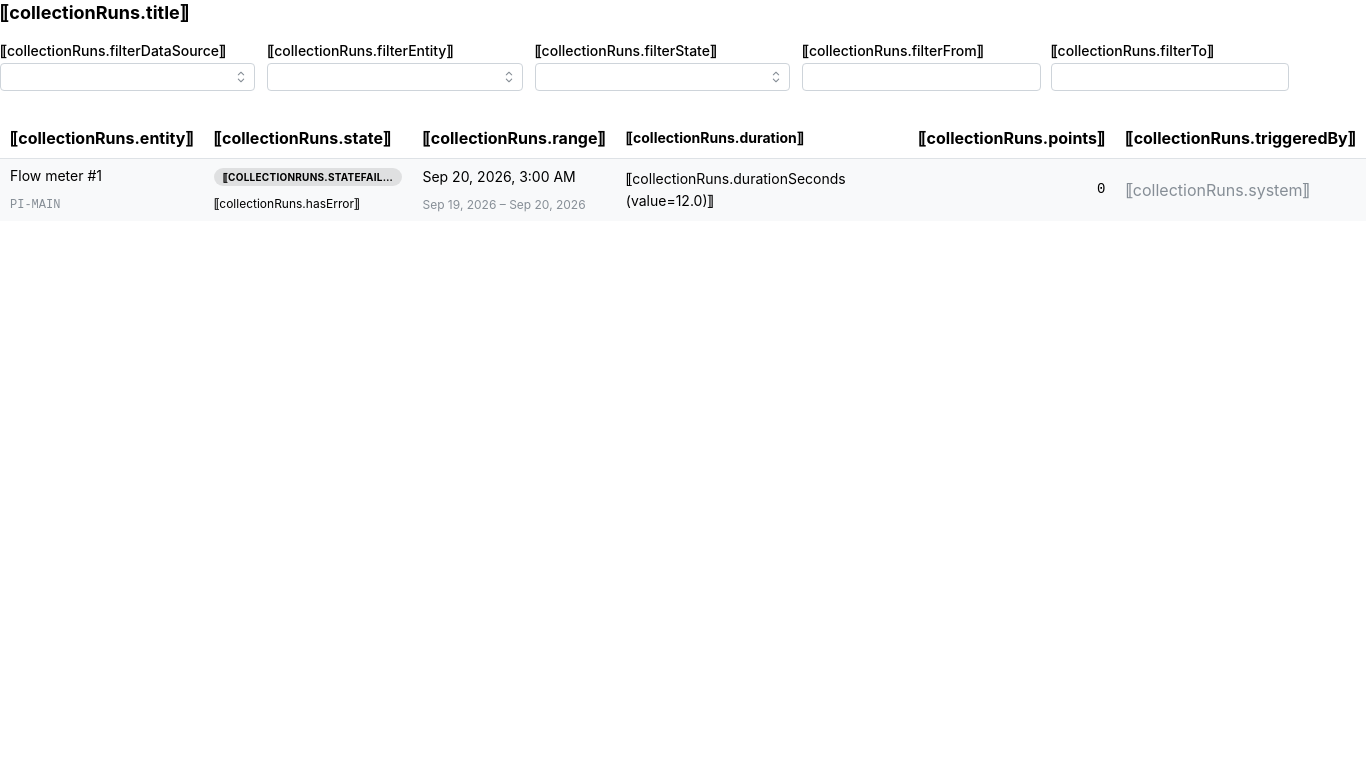
Test case: CollectionRunDetailDrawer › coverageTruncated показує банер "показано не все"
Check: the text "Flow meter #1" is shown, box [10, 167, 102, 184]
Click the row that starts with "Flow meter #1".
click(683, 190)  # box [0, 158, 1365, 221]
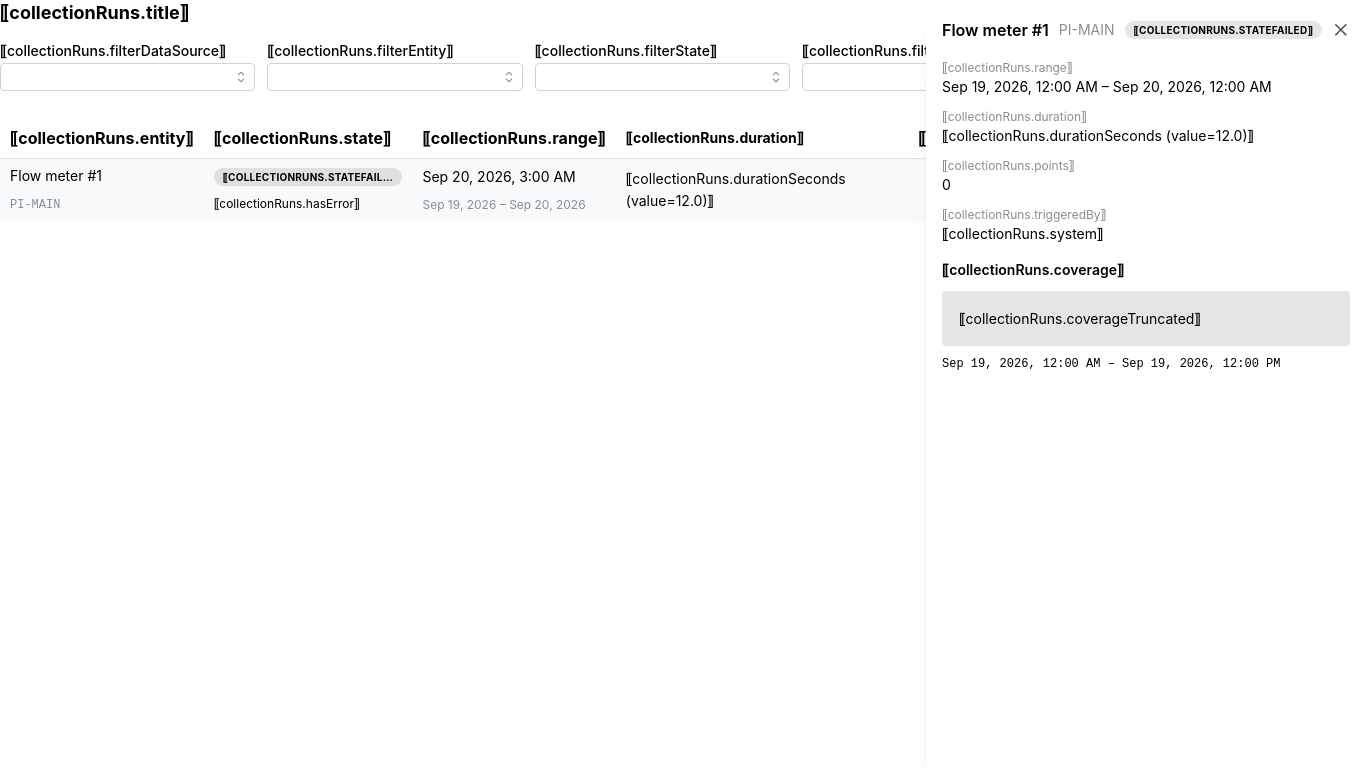
Check: the dialog is shown, box [926, 0, 1365, 767]
Check: the message "⟦collectionRuns.coverageTruncated⟧" is shown, box [942, 291, 1350, 346]
